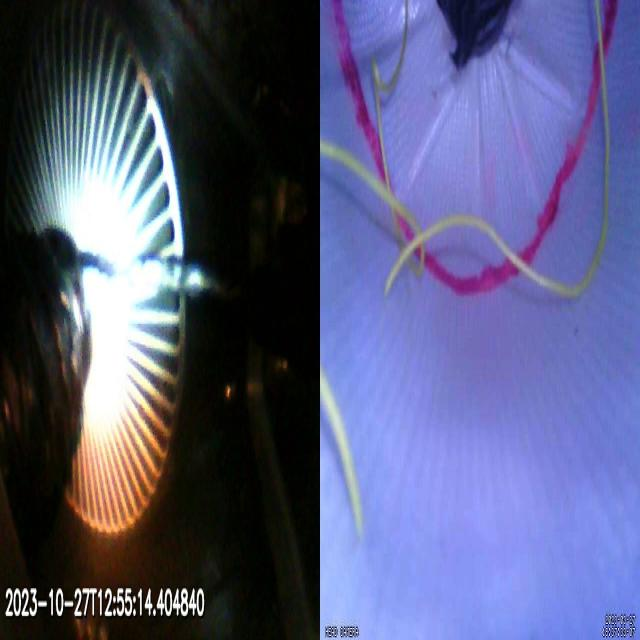red-circle: (330, 0, 621, 301)
